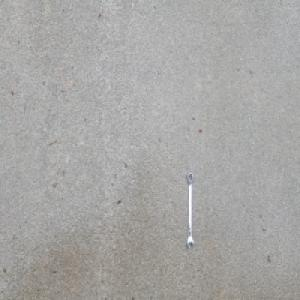Wrench: (185, 170, 194, 251)
